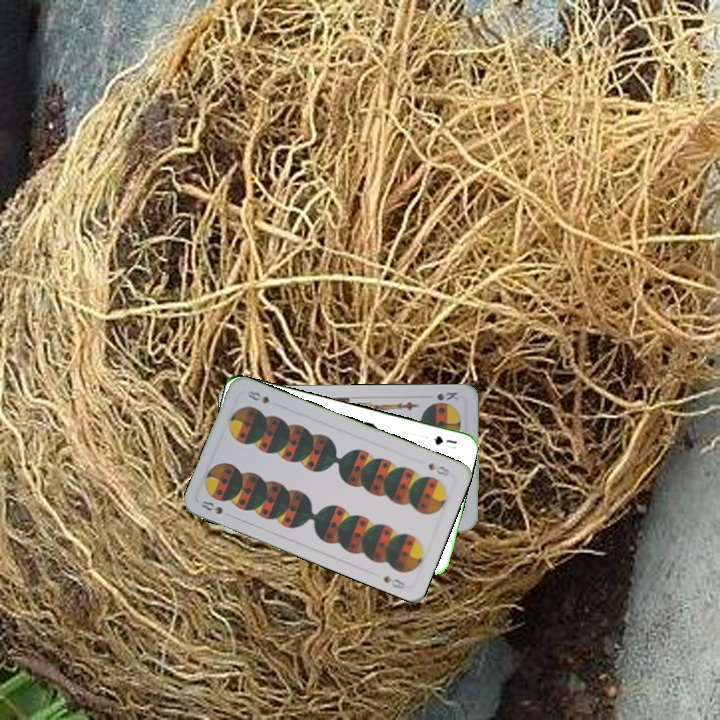GU: (429, 432, 459, 447)
S8: (197, 496, 226, 517), (424, 459, 453, 479)
SK: (433, 388, 461, 405)
